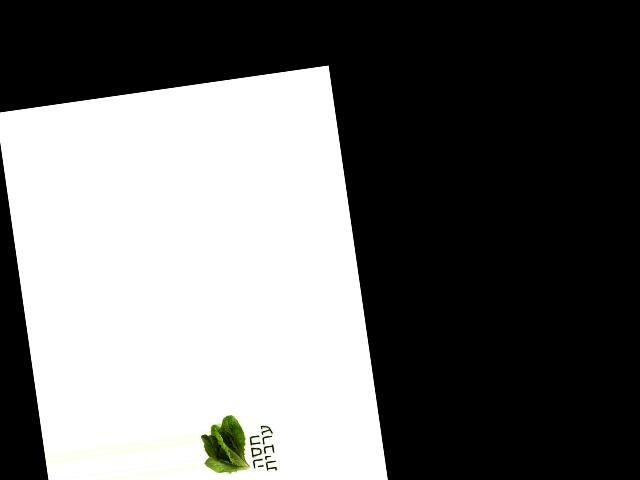lettuce: (198, 412, 255, 480)
